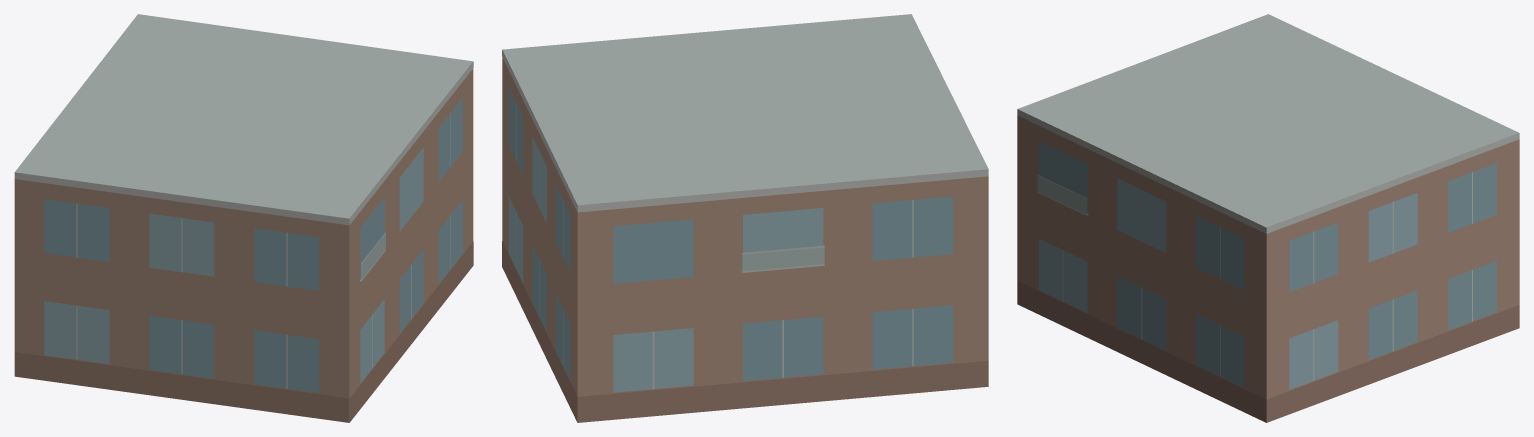
The model's file is survey-upis-32923425.glb.
3 renders of one model, left to right at view 1: azimuth 30°, elevation 25°; view 2: azimuth 150°, elevation 25°; view 3: azimuth 270°, elevation 25°, orthographic. The views are drawn at different scales.
Visible parts, largest first — view 1: survey-upis-32923425.tmp; view 2: survey-upis-32923425.tmp; view 3: survey-upis-32923425.tmp.
Boxes of the visible parts, x1,y1,x2,y2 form: survey-upis-32923425.tmp: [14, 14, 473, 422]; survey-upis-32923425.tmp: [502, 14, 988, 422]; survey-upis-32923425.tmp: [1017, 14, 1519, 422].
Bounding box in the file's own units: 17.61 × 7.5 × 17.49.
